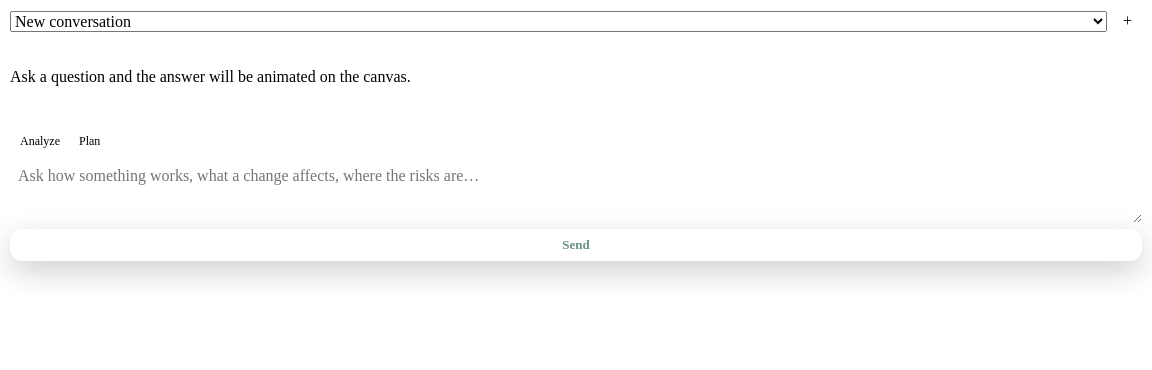
Scenario: ChatPanel › creates a conversation, streams the answer and opens the scene
The width and height of the screenshot is (1152, 370).
Replace the text in the 2nd text box with test id "chat-input" with "How do readings flow?" at (576, 191), box [10,159,1142,223]
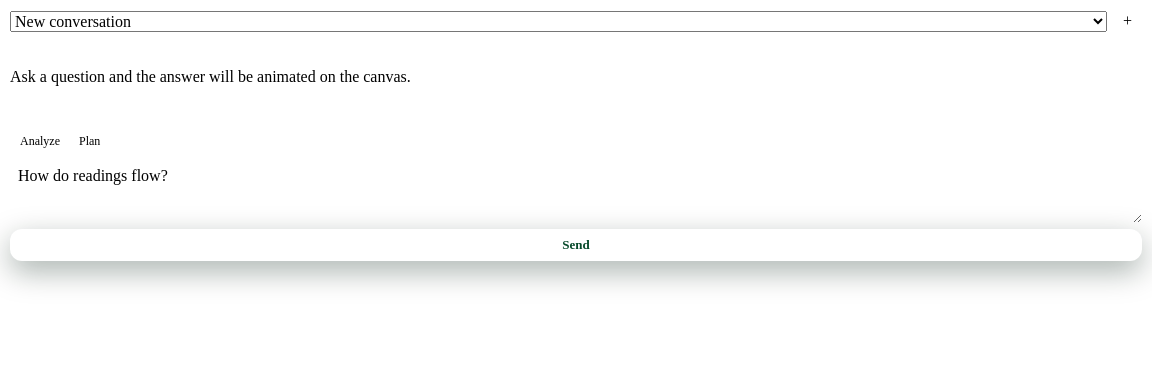
Click the button with test id "chat-send" at (576, 245), box [10,229,1142,261]
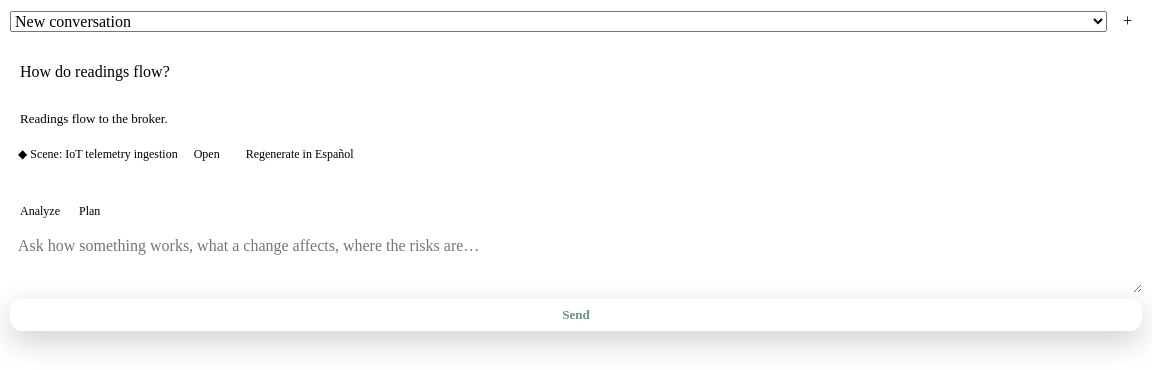
Expected: the text "Readings flow to the broker." is shown, [20,111,168,126]
Expected: the text with test id "chat-message-0" reads "How do readings flow?", [20,63,170,80]
Expected: the element with test id "chat-scene-sc1" shows "IoT telemetry ingestion", [30,147,178,161]
